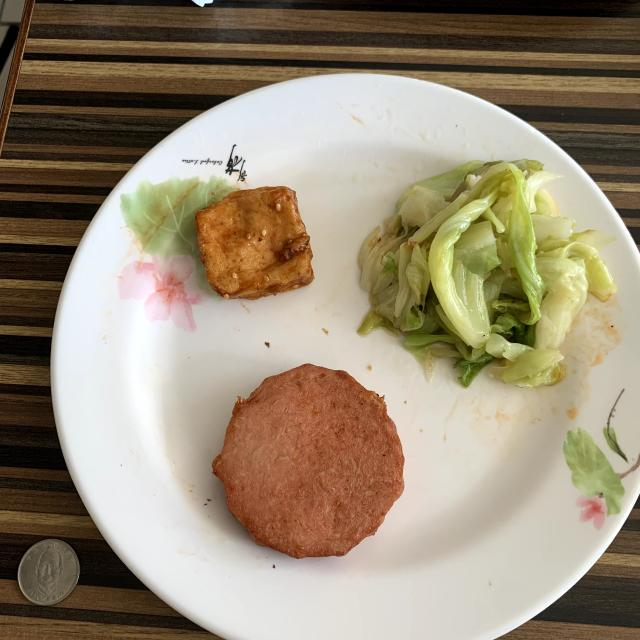Spam: (212, 364, 404, 559)
cabbage: (360, 160, 618, 388)
coin: (18, 539, 80, 606)
creamy tofu: (195, 186, 314, 299)
